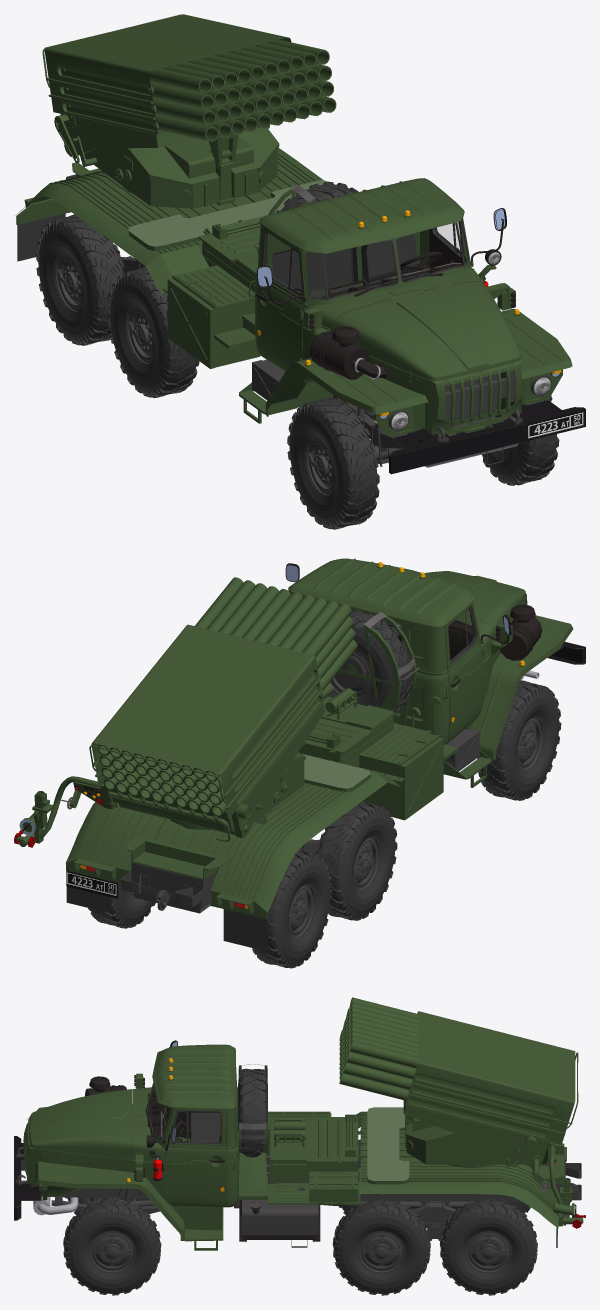
The model's file is RocketTruck.glb.
The picture shows the model from 3 angles, top to bottom: view 1: azimuth 30°, elevation 25°; view 2: azimuth 150°, elevation 25°; view 3: azimuth 270°, elevation 25°; orthographic projection. The views are drawn at different scales.
Visible parts, largest first — view 1: polySurface1, polySurface2, pPlane13, polySurface51861 (×2), polySurface16, pPlane23, polySurface5326, polySurface52287, polySurface52263, polySurface52279, polySurface52262, pPlane50 (+25 smaller); view 2: polySurface2, polySurface52287, polySurface1, pPlane23, polySurface52263 (×2), polySurface52262, polySurface5326, polySurface52279, polySurface51861, pPlane4, polySurface52264, polySurface5226 (+26 smaller); view 3: polySurface2, polySurface1, polySurface52262, polySurface52263, polySurface51861, polySurface52287, pPlane13, pPlane23, polySurface5326, polySurface5222, polySurface16, polySurface11 (+34 smaller).
Boxes of the visible parts, box(x1,y1,x2,y2) form: polySurface1: box(149, 39, 336, 141); polySurface2: box(44, 14, 291, 135); pPlane13: box(333, 281, 520, 380); polySurface51861 (×2): box(287, 395, 559, 529); polySurface16: box(84, 127, 279, 208); pPlane23: box(259, 178, 464, 254); polySurface5326: box(239, 309, 572, 416); polySurface52287: box(16, 148, 323, 266); polySurface52263: box(36, 214, 124, 345); polySurface52279: box(167, 265, 260, 368); polySurface52262: box(107, 266, 199, 397); pPlane50: box(389, 400, 585, 474); polySurface2: box(91, 624, 323, 819); polySurface52287: box(66, 755, 387, 912); polySurface1: box(97, 577, 357, 816); pPlane23: box(288, 558, 475, 627); polySurface52263 (×2): box(88, 849, 332, 968); polySurface52262: box(316, 801, 397, 920); polySurface5326: box(443, 615, 573, 779); polySurface52279: box(359, 726, 443, 820); polySurface51861: box(477, 680, 561, 800); pPlane4: box(290, 592, 449, 744); polySurface52264: box(328, 609, 413, 713); polySurface5226: box(445, 603, 485, 743); polySurface2: box(405, 1011, 575, 1144); polySurface1: box(339, 997, 418, 1100); polySurface52262: box(332, 1198, 430, 1295); polySurface52263: box(440, 1198, 537, 1295); polySurface51861: box(63, 1198, 161, 1295); polySurface52287: box(361, 1111, 559, 1228); pPlane13: box(29, 1089, 131, 1159); pPlane23: box(152, 1044, 235, 1109); polySurface5326: box(35, 1107, 223, 1241); polySurface5222: box(165, 1108, 226, 1207); polySurface16: box(405, 1115, 524, 1164); polySurface11: box(270, 1117, 358, 1162).
Size of the model in its own units: 3.11 by 3.44 by 7.45.
16 materials, 2 textured.
